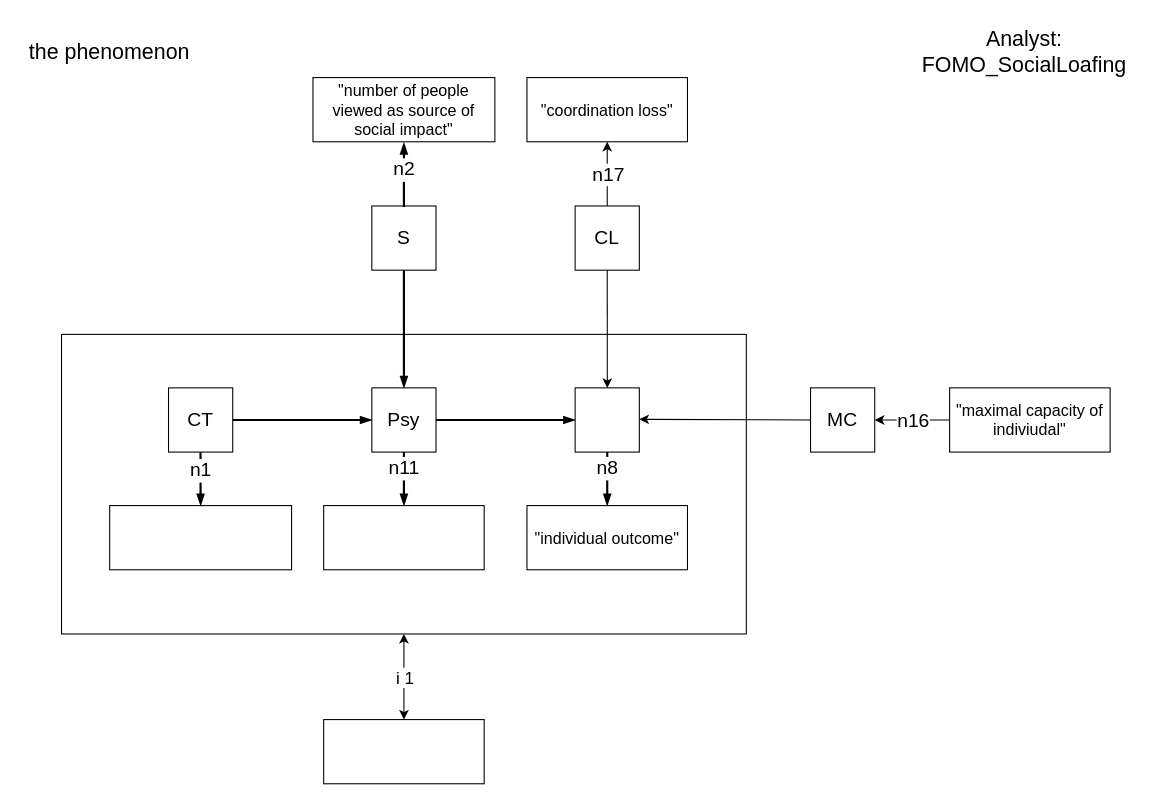
This 1160x803 diagram has some shape labels left out. Here are the shapes that lost their labels. From the top down, the centre of each, then its label:
point 606,419: IO
point 200,537: "number of people also viewed as targets of social impact"
point 403,537: "psyche"
point 403,751: "social loafing"
